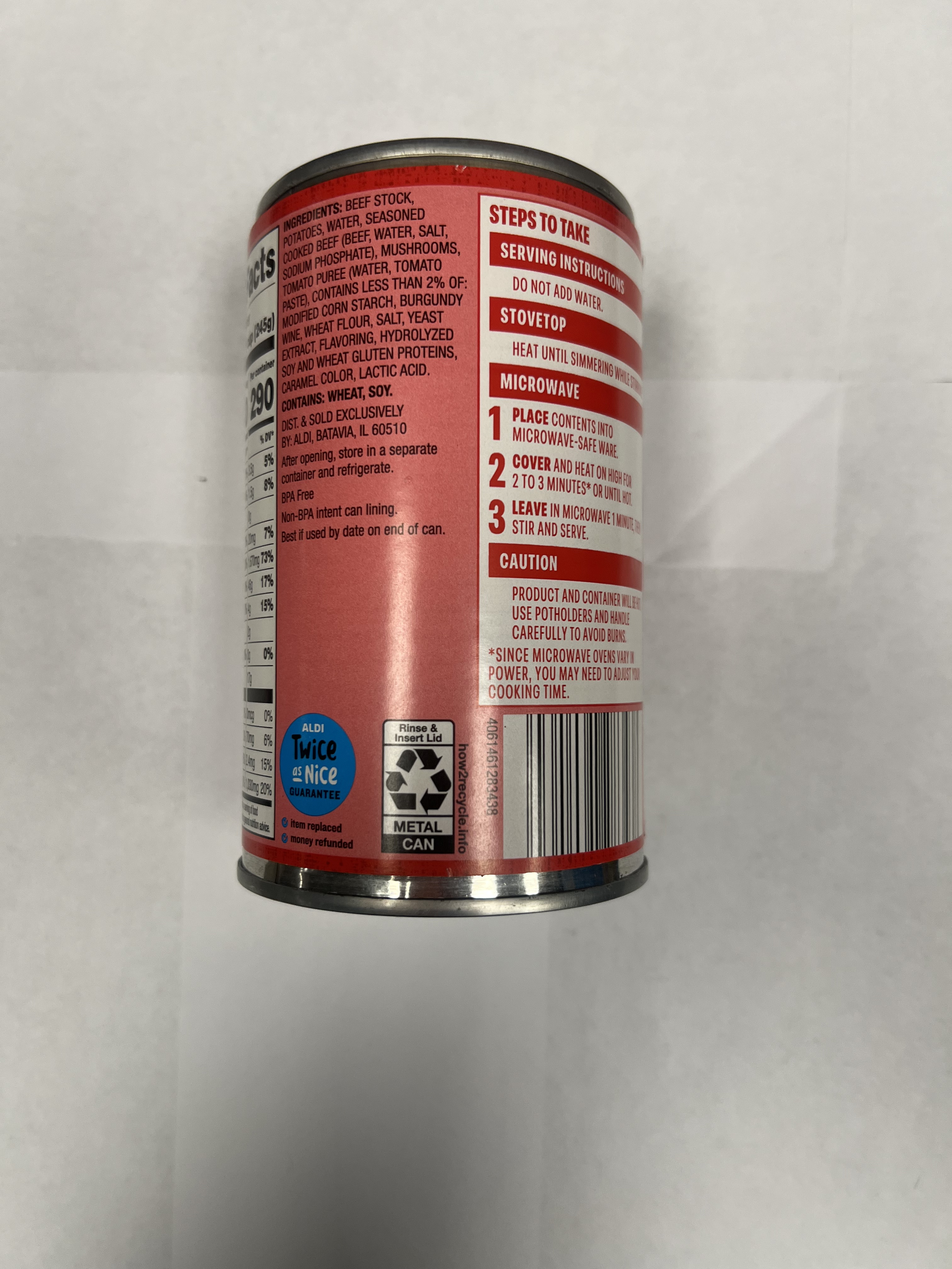packaged: (223, 127, 660, 922)
